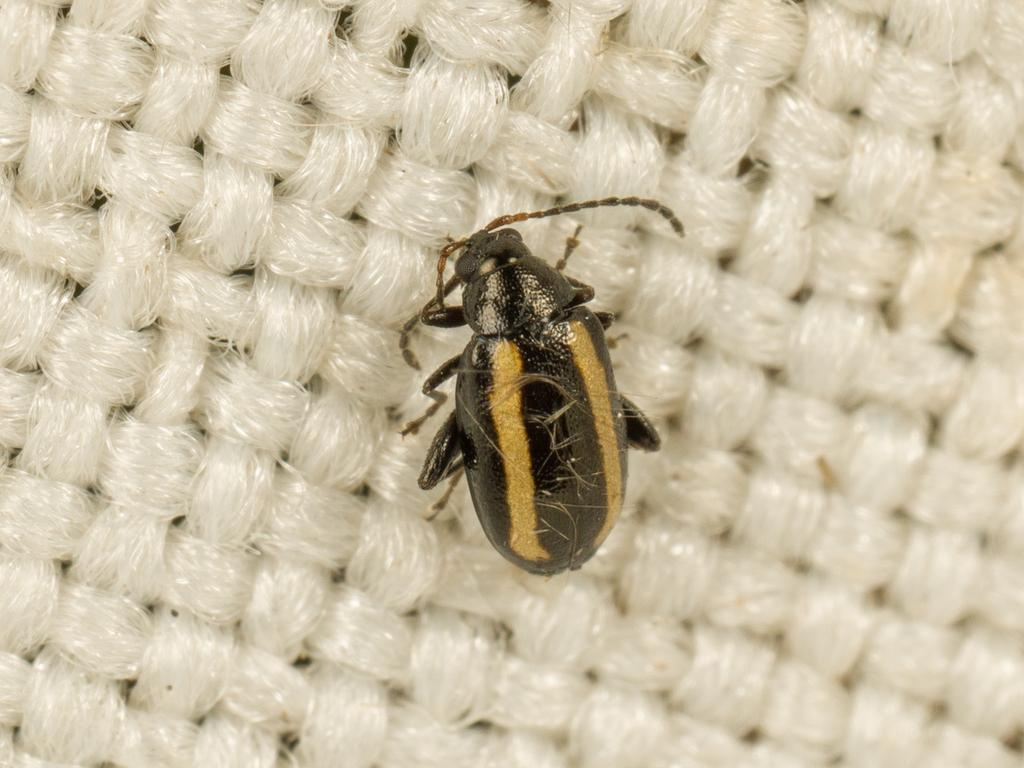flea_beetle: (329, 162, 733, 626)
